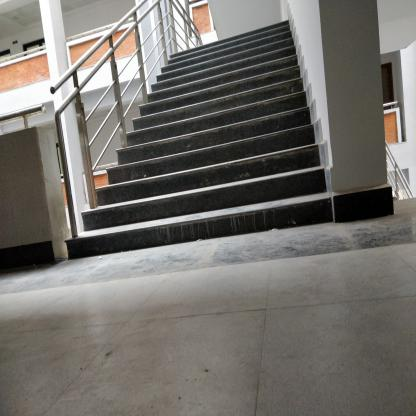stairs: (171, 53, 297, 246)
